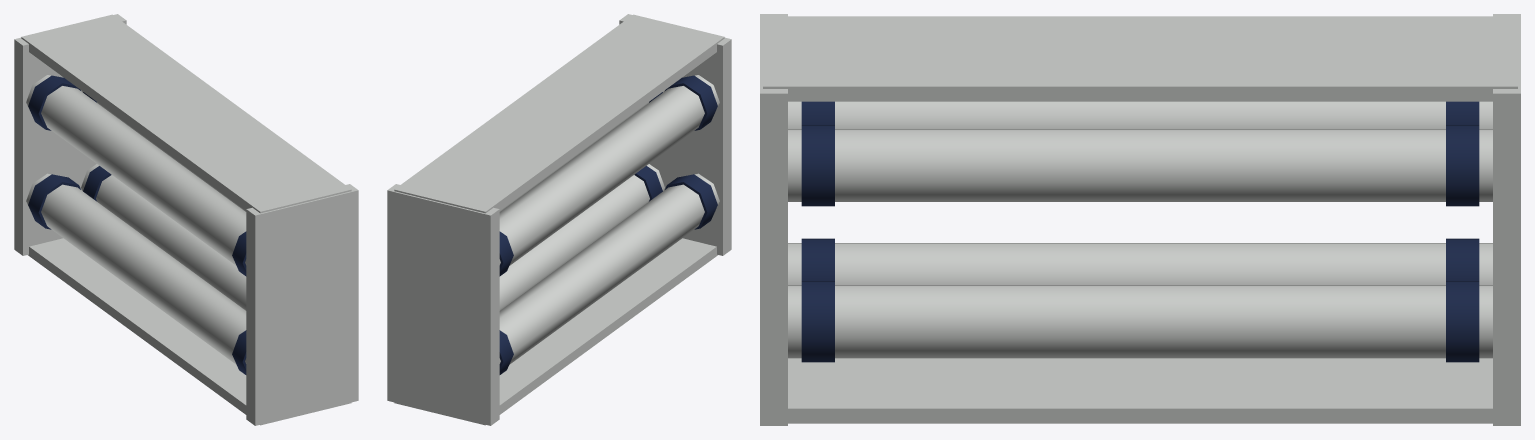
The model's file is s60_cells.obj.
The picture shows the model from 3 angles, left to right: view 1: azimuth 30°, elevation 25°; view 2: azimuth 150°, elevation 25°; view 3: azimuth 270°, elevation 25°; orthographic projection. The views are drawn at different scales.
Visible parts, largest first — view 1: s60_cells; view 2: s60_cells; view 3: s60_cells.
Boxes of the visible parts, x1=… form: s60_cells: x1=14, y1=14, x2=358, y2=425; s60_cells: x1=387, y1=14, x2=731, y2=425; s60_cells: x1=760, y1=14, x2=1520, y2=425.
Bounding box in the file's own units: 0.2452 × 0.4832 × 0.9881.
